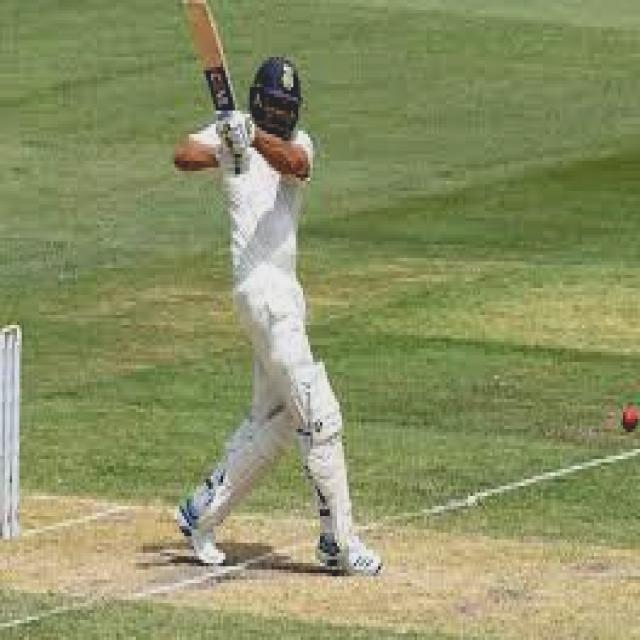toe: (180, 0, 213, 29)
